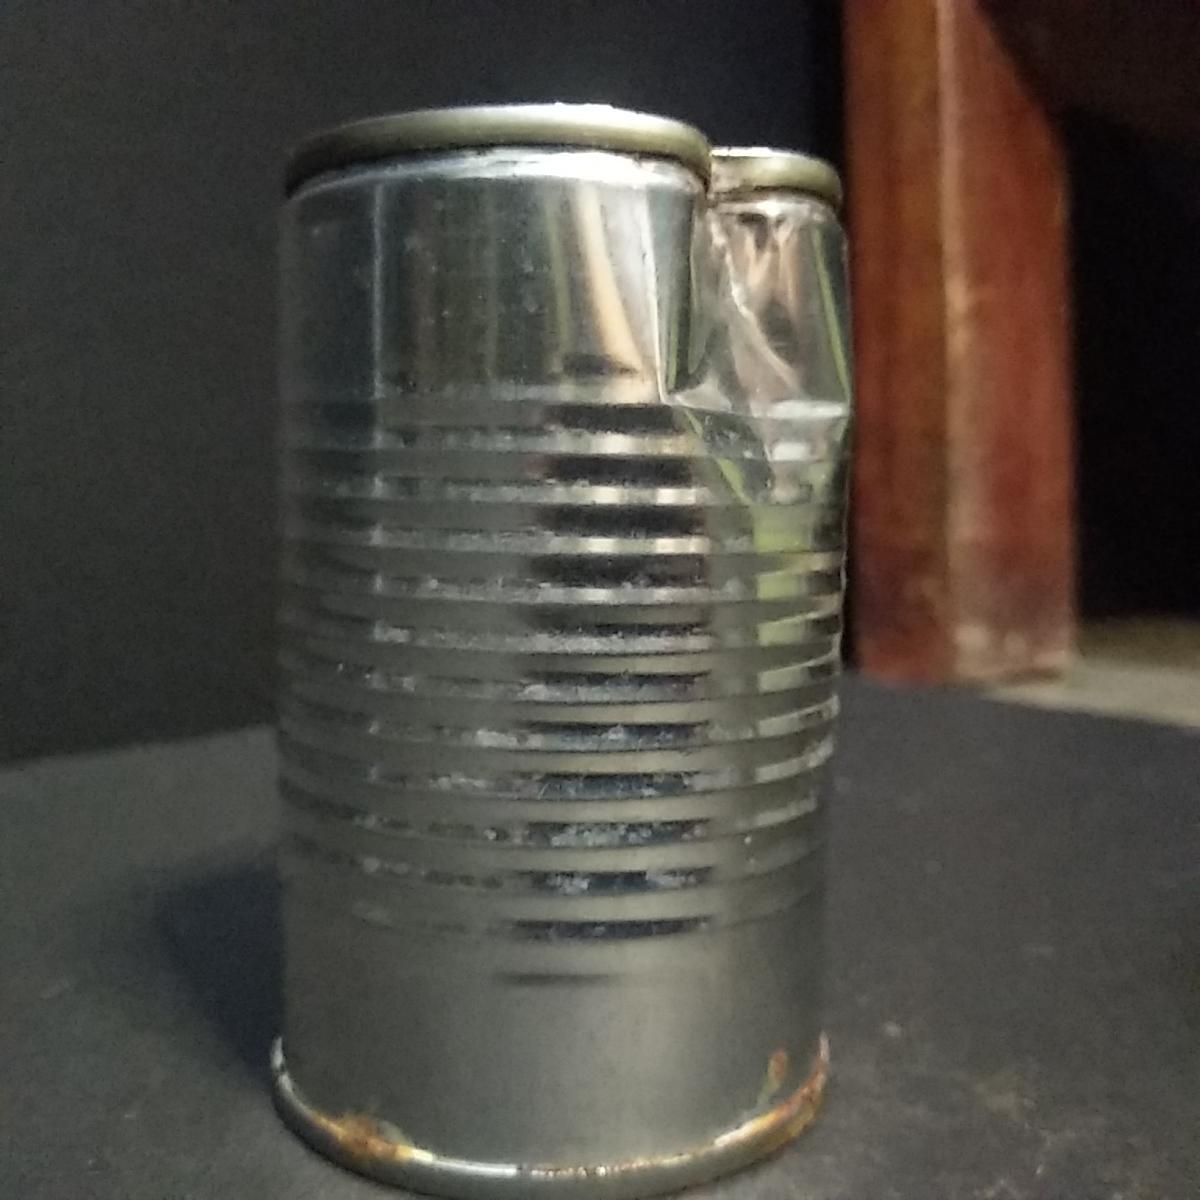Dented: (256, 82, 890, 1200)
